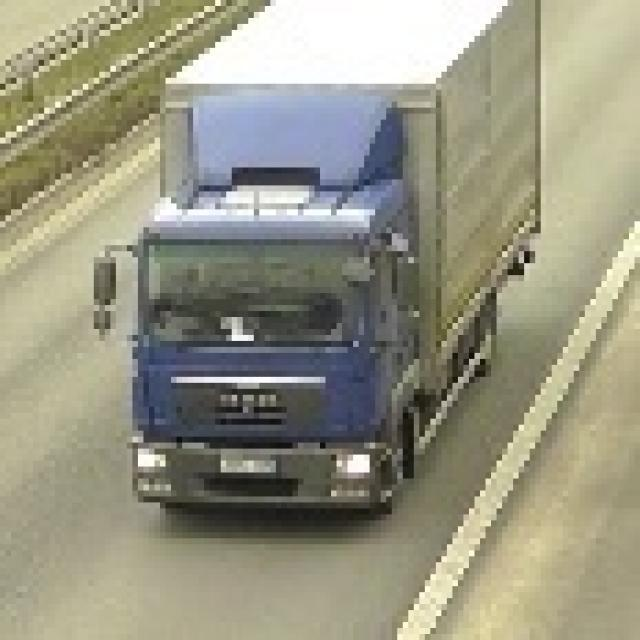truck: (88, 0, 535, 508)
